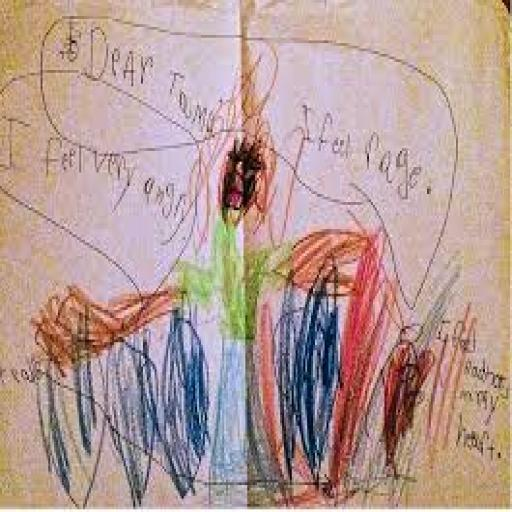person: (180, 115, 290, 505)
